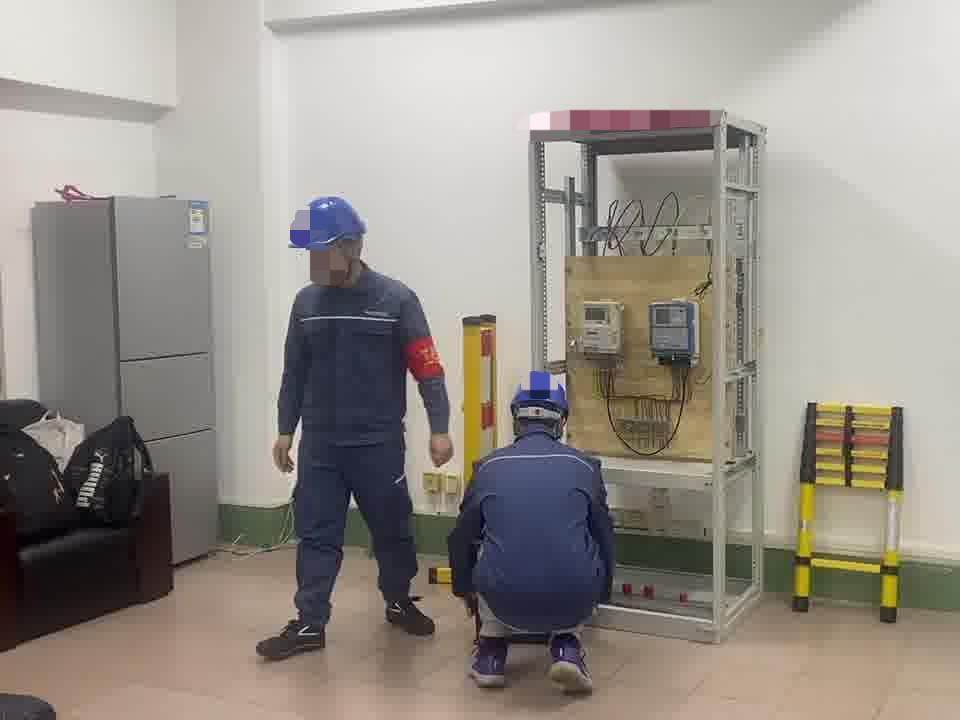halt: (294, 195, 371, 287), (511, 376, 574, 436)
